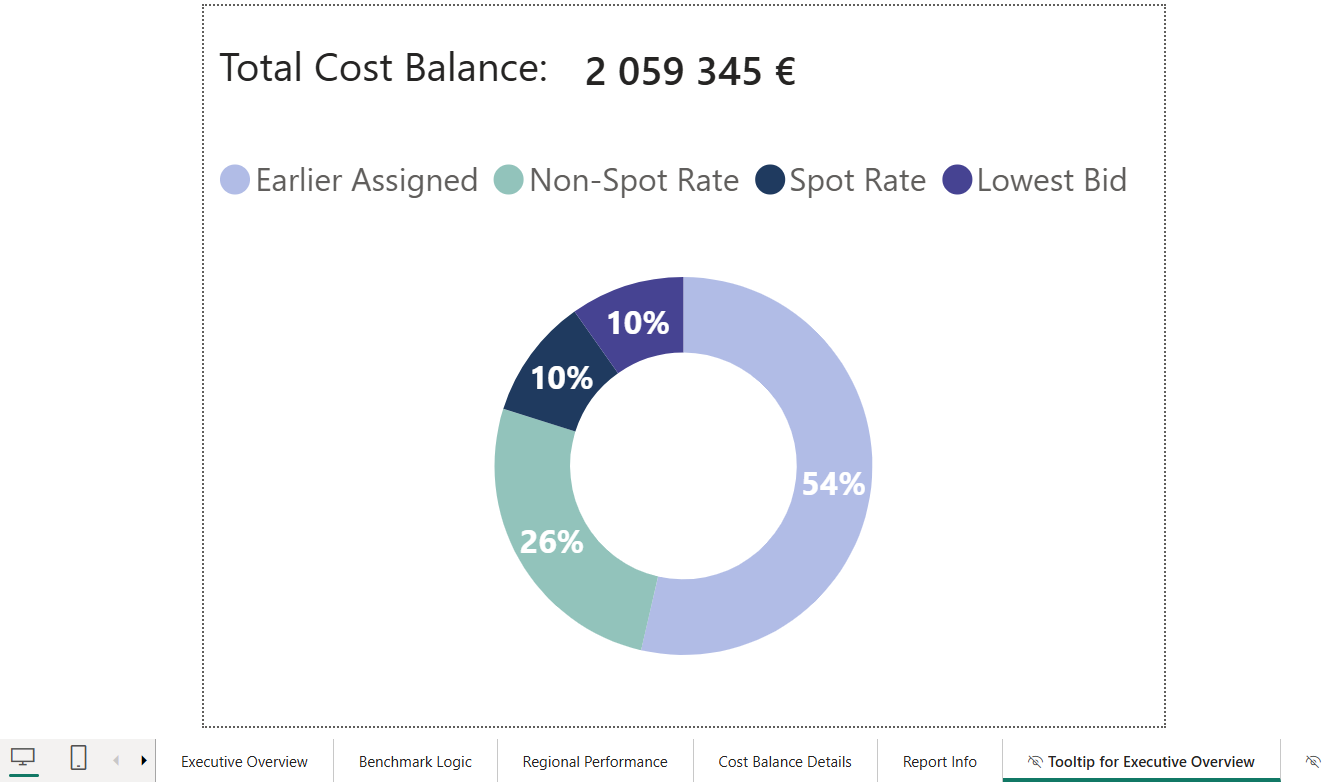

The page's visual inventory and layout, read from the dashboard file:
{"tool":"powerbi","page":{"name":"Tooltip for Executive Overview","canvas":[320,240],"ordinal":5},"visuals":[{"type":"donutChart","fields":{"Y":["Count(fact_transport_orders.freight_order_id)"],"Category":["dim_cost_balance_source.cost_balance_source"]},"box":[0,39,320,201],"z":0},{"type":"cardVisual","fields":{"Data":["_measures.Total Cost Balance"]},"box":[103,0,133,39],"z":1000},{"type":"textbox","box":[0,6,131,33],"z":2000}]}

Visuals, with their boxes on the page's 320x240 design canvas (x1, y1, x2, y2). These are canvas units, not pixel positions in the 1325x782 screenshot, which may show the page scaled, cropped or inside an application window:
donutChart - Count(fact_transport_orders.freight_order_id) x dim_cost_balance_source.cost_balance_source: [0,39,320,240]
cardVisual - _measures.Total Cost Balance: [103,0,236,39]
textbox: [0,6,131,39]
